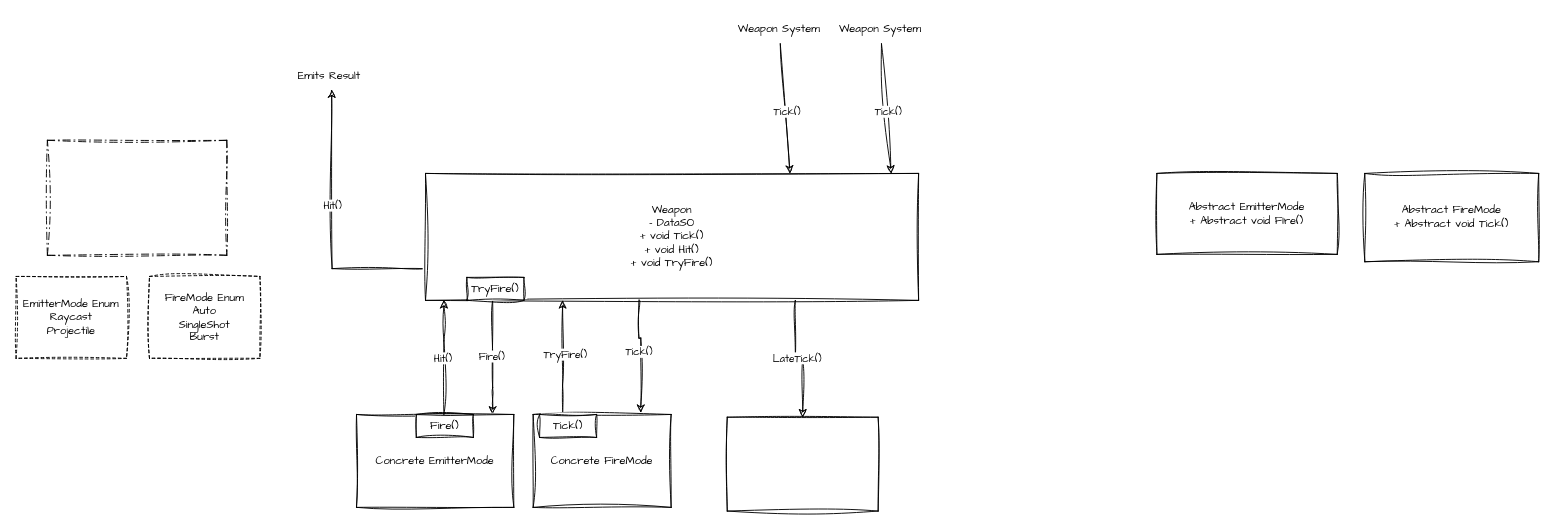
Some shapes in this 1555 by 527 pixel diagram are drawn without their labels. Each missing label, with the centre of its shape:
DataSO - Range - Ammo - Projectile Prefab - EmitterMode Enum - FireMode Enum: (x=136, y=197)
View: (x=802, y=463)
